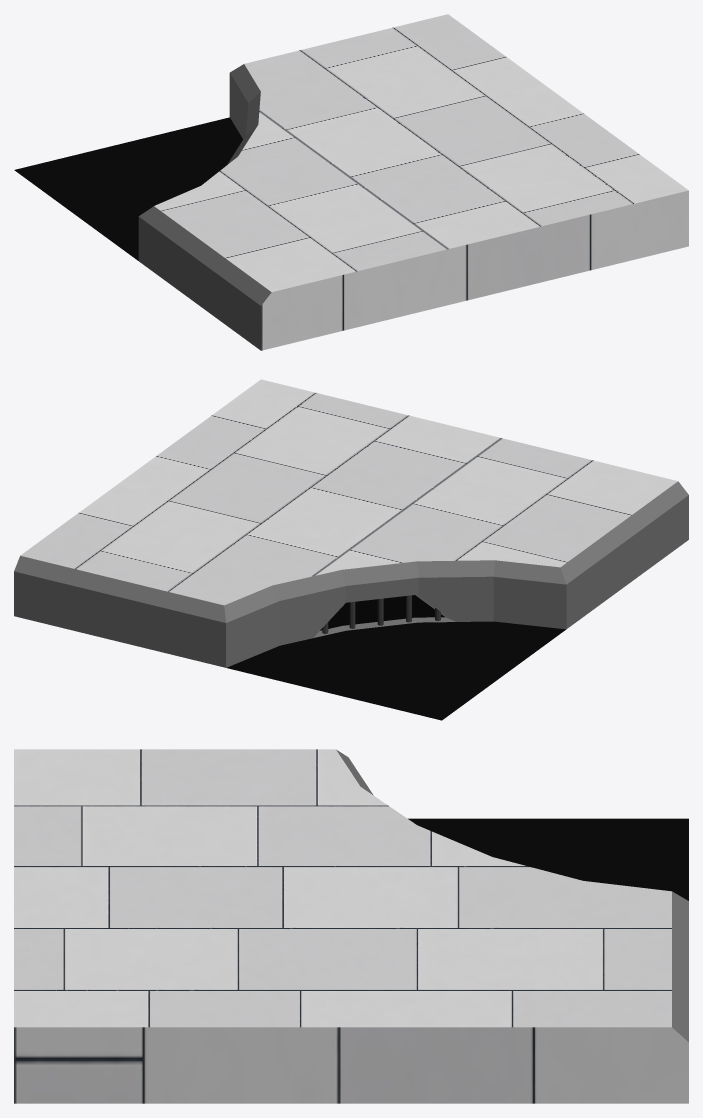
Rendered from Acera_Esquina_Interna.fbx.
3 views of the same model, one above another, from view 1: azimuth 30°, elevation 25°; view 2: azimuth 150°, elevation 25°; view 3: azimuth 270°, elevation 25° (orthographic). The views are drawn at different scales.
Parts seen in each view (by area): view 1: Esquina redonda interna; view 2: Esquina redonda interna; view 3: Esquina redonda interna.
Part boxes in pixels (bbox=[...]): Esquina redonda interna: bbox=[14, 14, 688, 350]; Esquina redonda interna: bbox=[14, 379, 688, 720]; Esquina redonda interna: bbox=[14, 749, 688, 1103].
Size of the model in its own units: 800 by 106 by 800.
